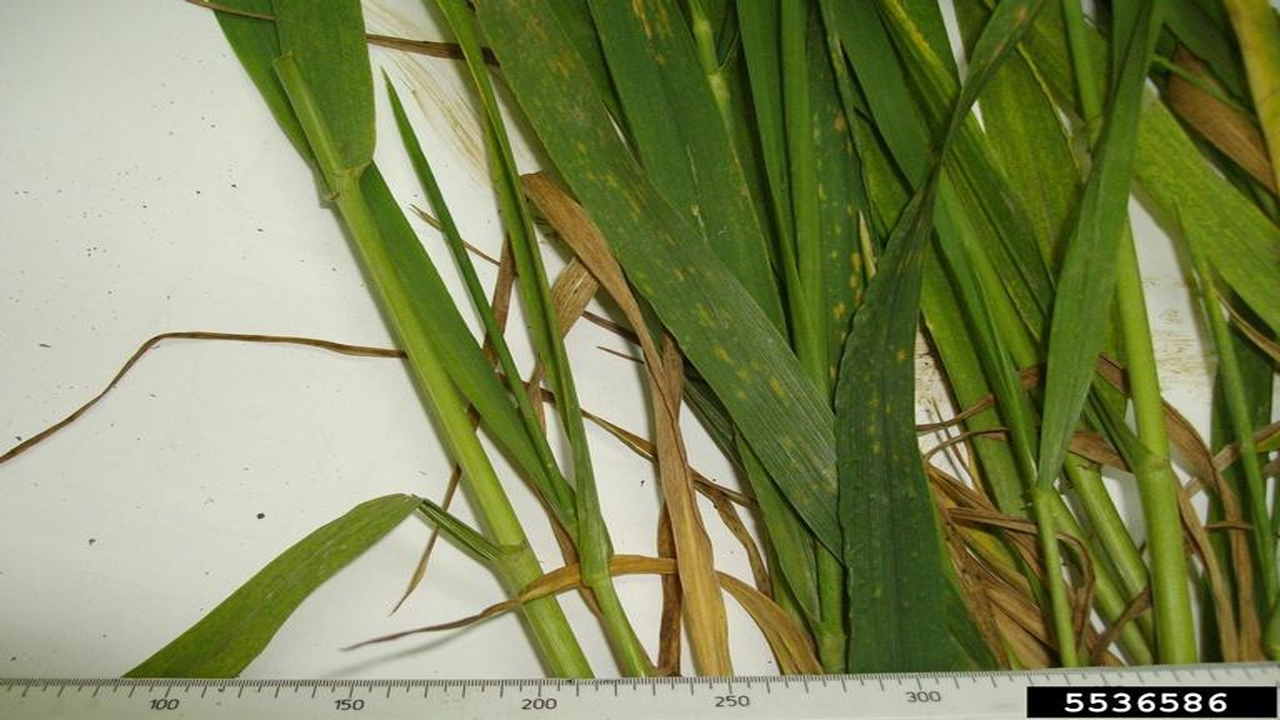tan_spot: (475, 1, 813, 515), (840, 191, 940, 584), (806, 20, 865, 380)
